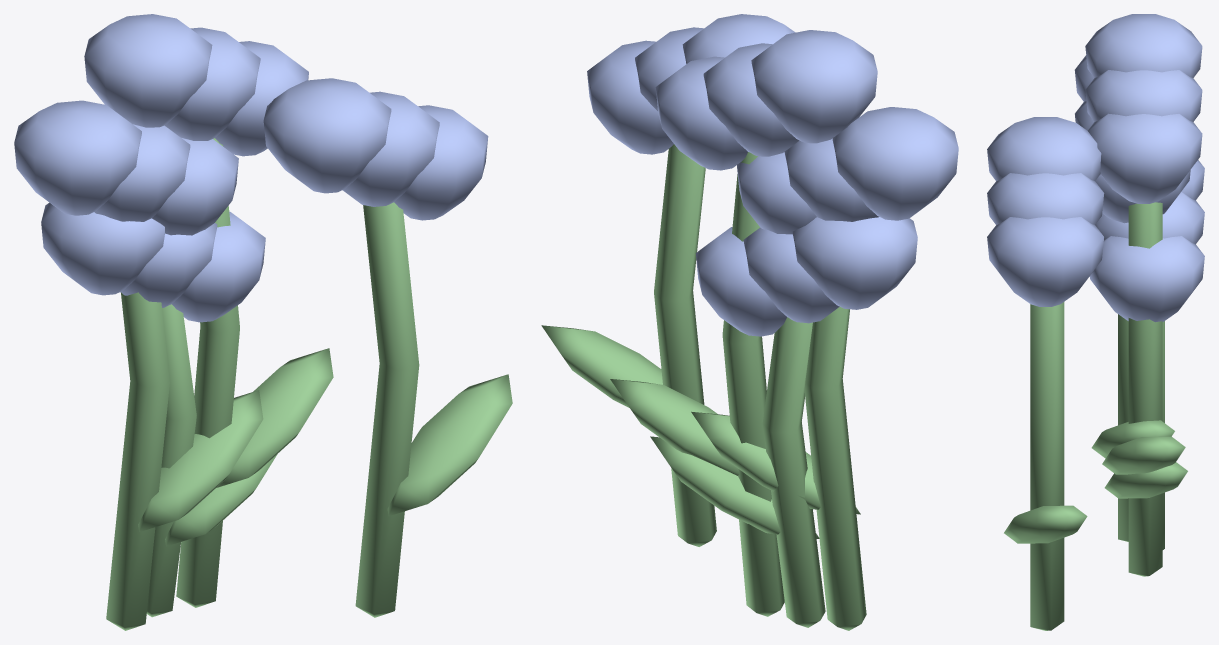
Rendered from flowers_campanula_cluster.glb.
3 renders of one model, left to right at view 1: azimuth 30°, elevation 25°; view 2: azimuth 150°, elevation 25°; view 3: azimuth 270°, elevation 25°, orthographic. The views are drawn at different scales.
Visible parts, largest first — view 1: flowers_campanula_cluster; view 2: flowers_campanula_cluster; view 3: flowers_campanula_cluster.
Boxes of the visible parts, x1,y1,x2,y2 form: flowers_campanula_cluster: [14, 14, 512, 630]; flowers_campanula_cluster: [541, 14, 958, 630]; flowers_campanula_cluster: [987, 14, 1204, 630].
Bounding box in the file's own units: 0.3704 × 0.4695 × 0.1739.
